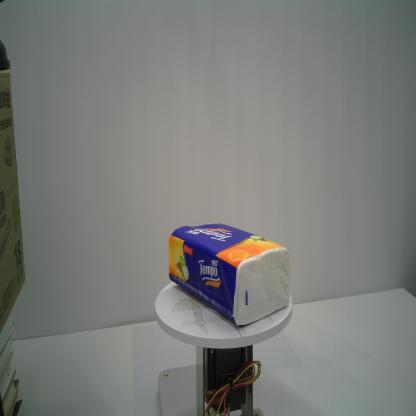Tissue: (166, 219, 292, 328)
